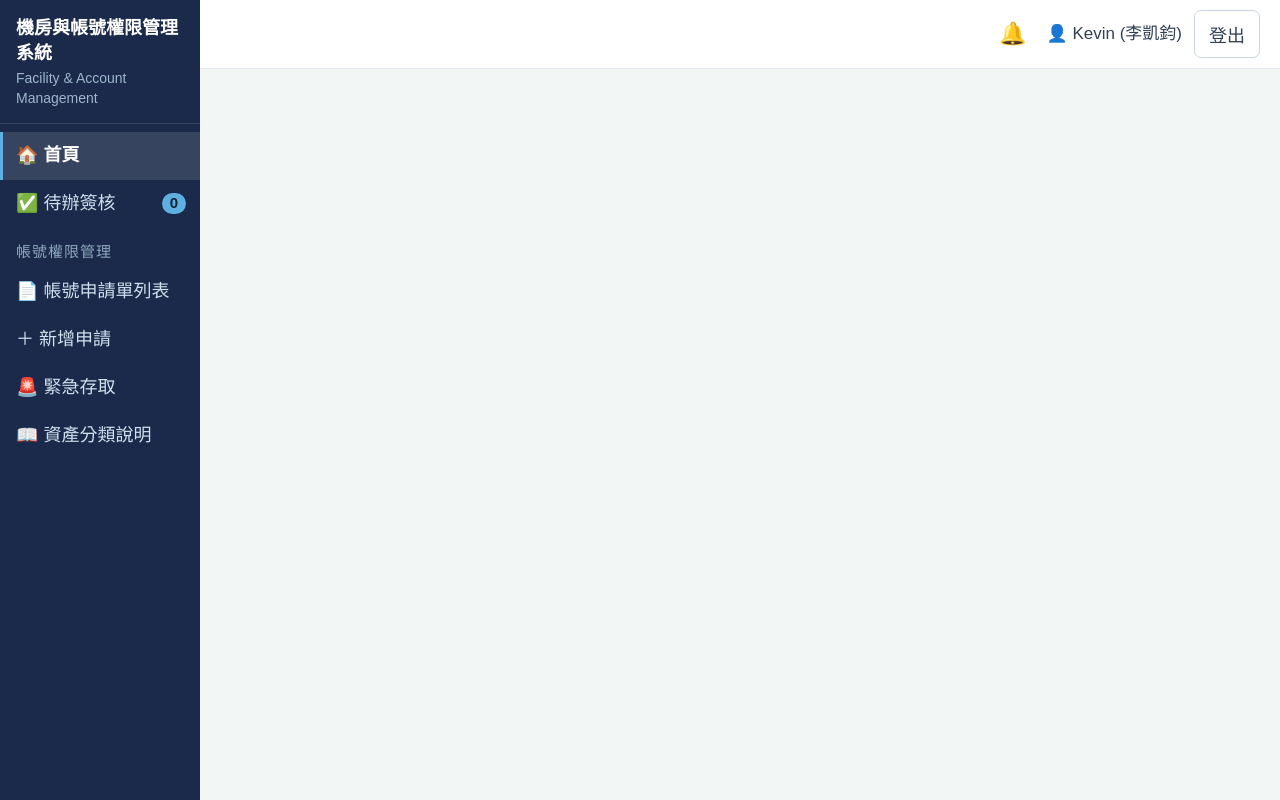
it: AppLayout › 鈴鐺分類：兩類都空 → 無徽章、面板顯示「目前沒有與您相關的通知」
This screenshot has width=1280, height=800.
Click the button with class "bell-btn" at (1013, 34), box [991,10,1034,58]
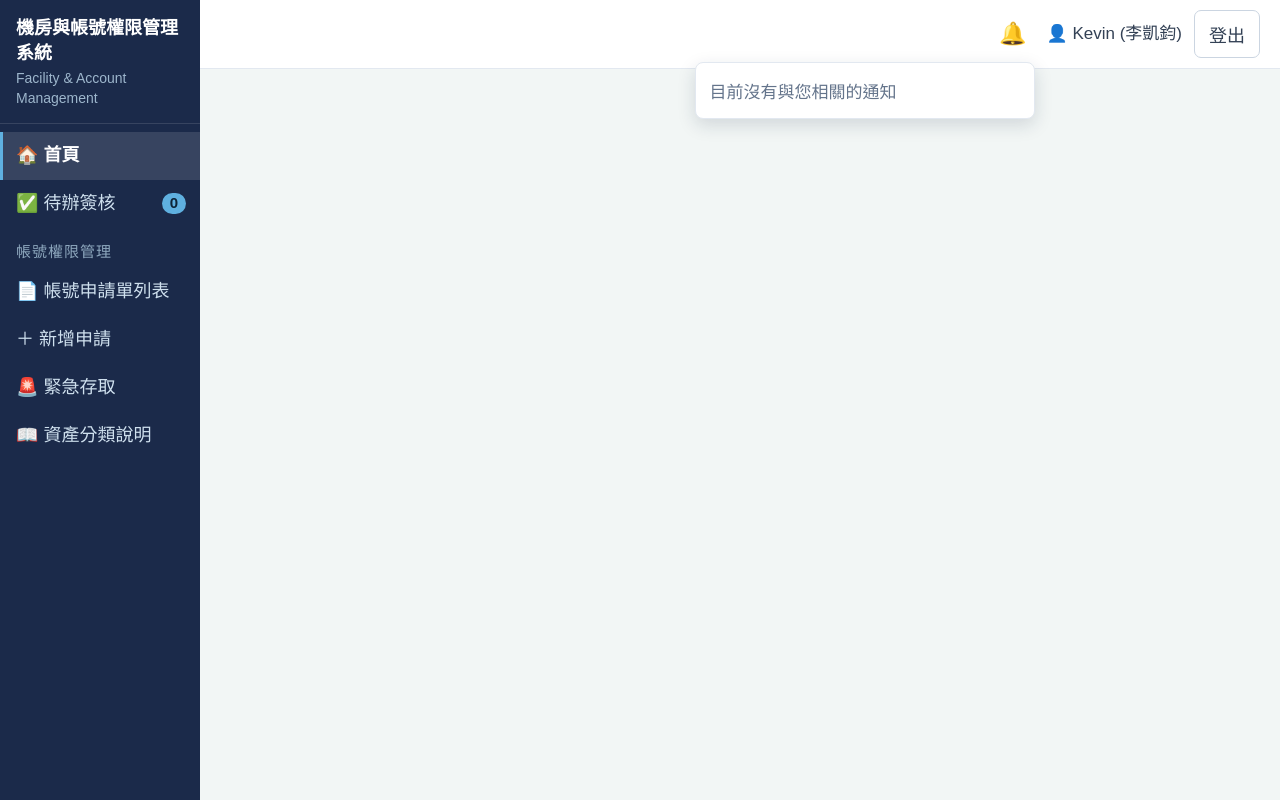
Expected: the text with class "hint" reads "目前沒有與您相關的通知", [710,83,896,102]
